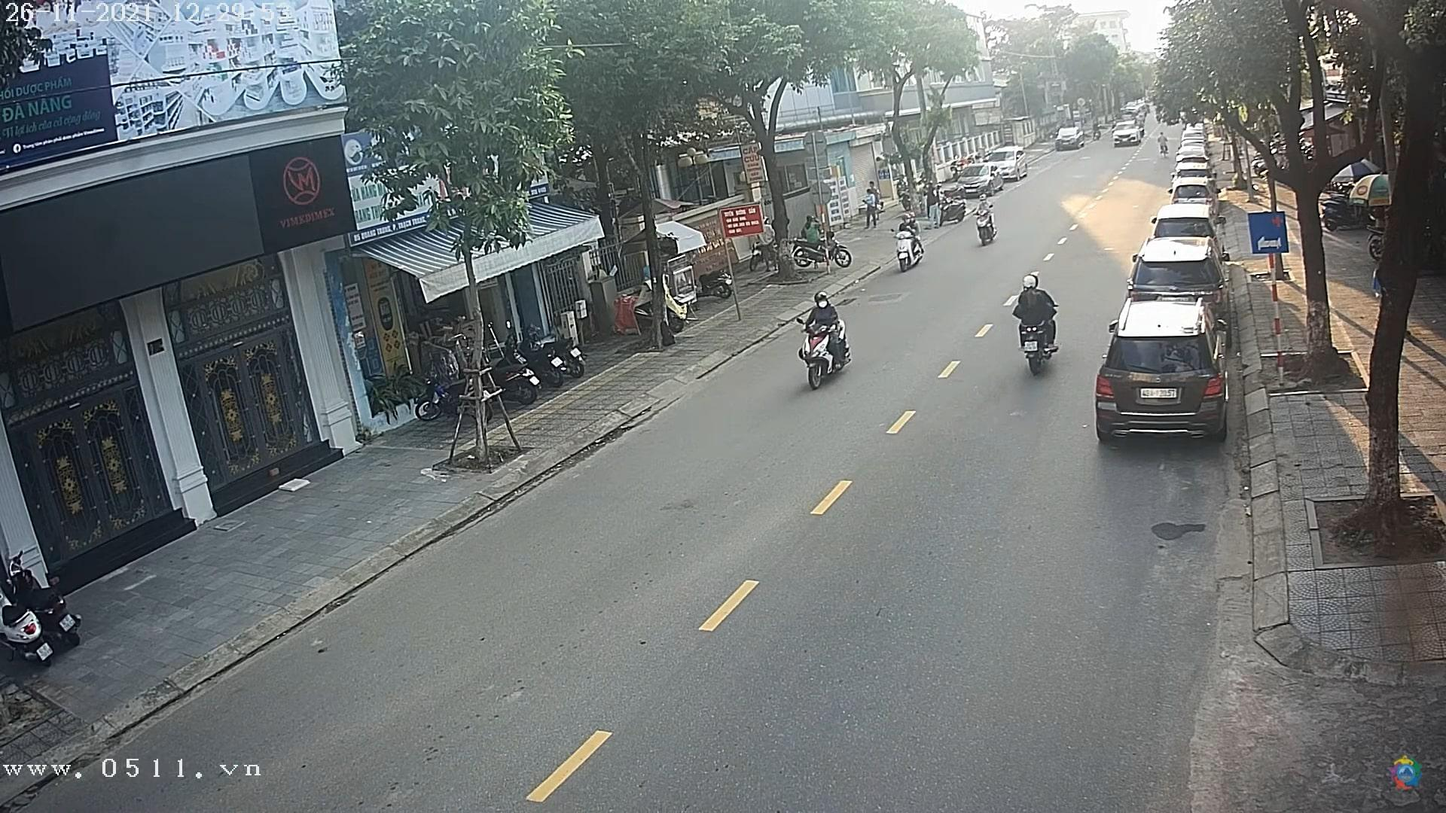car: (1097, 296, 1229, 442), (1127, 242, 1227, 302), (1144, 203, 1216, 251), (1058, 125, 1089, 149), (1114, 123, 1147, 145)
motorbike: (803, 320, 857, 391), (1019, 320, 1058, 366), (893, 221, 926, 273), (972, 209, 1000, 246)
